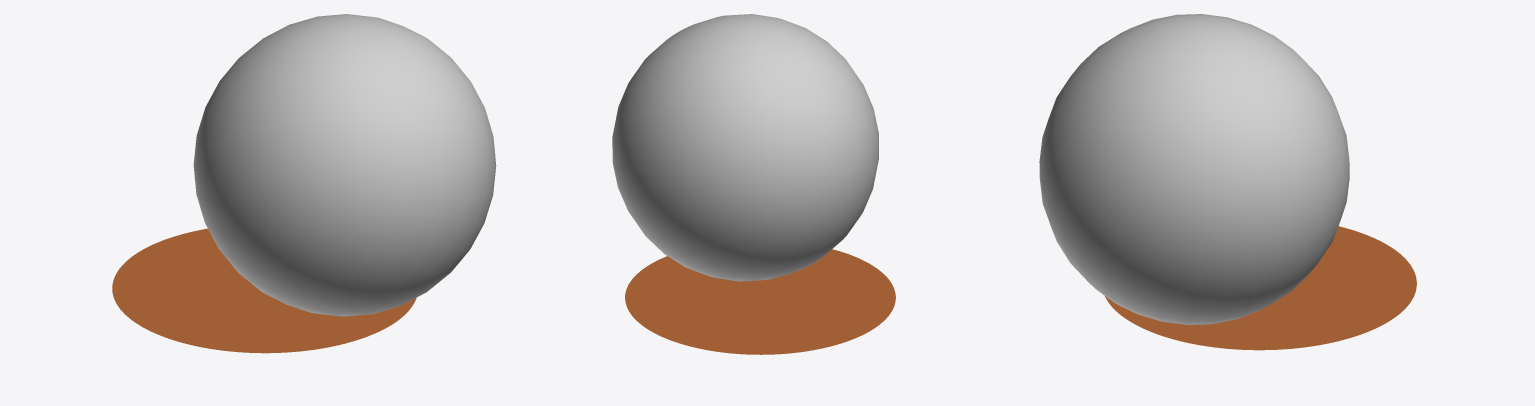
File: 宝宝巴士-主框架-推送地图-游园会-球1.FBX
3 renders of one model, left to right at view 1: azimuth 30°, elevation 25°; view 2: azimuth 150°, elevation 25°; view 3: azimuth 270°, elevation 25°, orthographic. The views are drawn at different scales.
Visible parts, largest first — view 1: 宝宝巴士-主框架-推送地图-游园会-球1; view 2: 宝宝巴士-主框架-推送地图-游园会-球1; view 3: 宝宝巴士-主框架-推送地图-游园会-球1.
Part boxes in pixels (bbox=[...]): 宝宝巴士-主框架-推送地图-游园会-球1: bbox=[112, 14, 496, 353]; 宝宝巴士-主框架-推送地图-游园会-球1: bbox=[612, 14, 895, 354]; 宝宝巴士-主框架-推送地图-游园会-球1: bbox=[1039, 14, 1416, 350].
Bounding box in the file's own units: 187 × 113 × 187.
